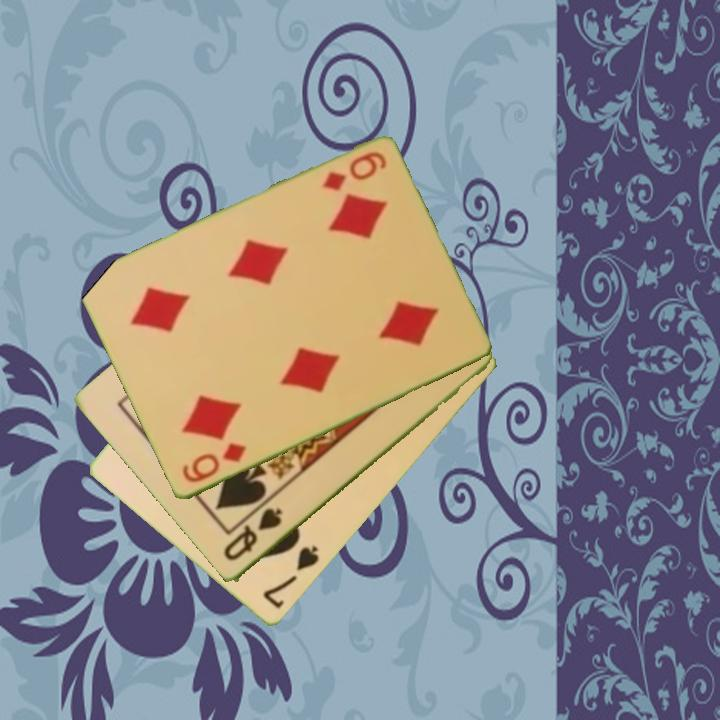6d: (178, 439, 249, 487), (318, 148, 390, 195)
7s: (259, 542, 322, 612)
Qs: (219, 505, 285, 564)
